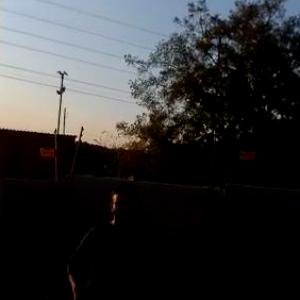follow: (61, 172, 158, 299)
